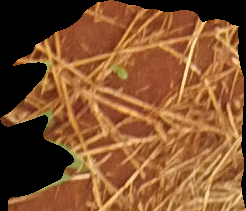soil: (2, 4, 245, 211)
